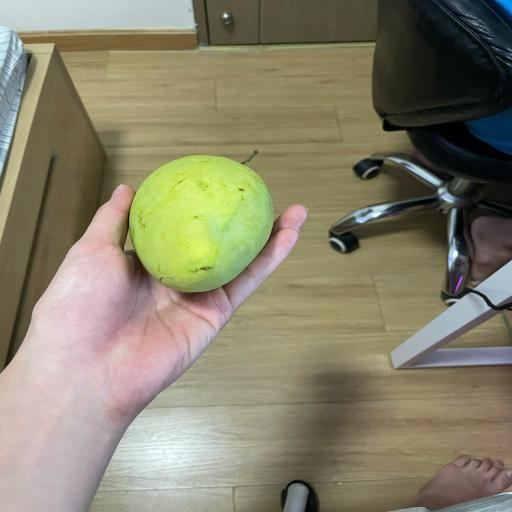xoai: (130, 155, 273, 292)
